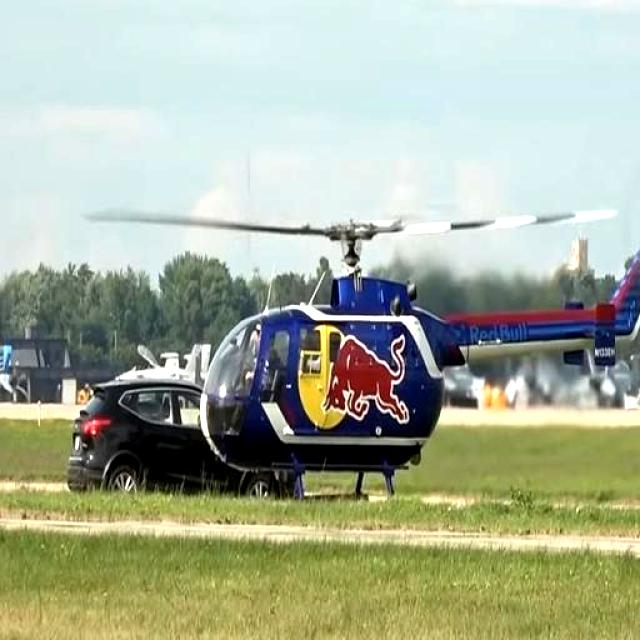drone: (179, 199, 640, 500)
